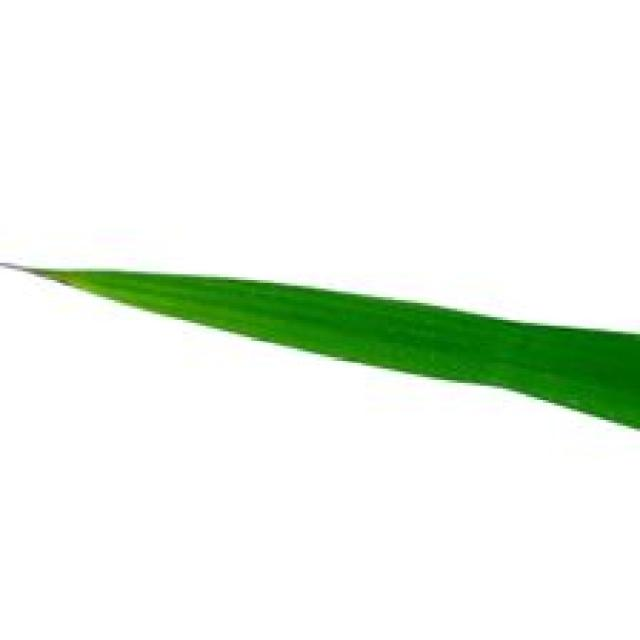Rice___Healthy_Rice_Plant: (4, 263, 637, 431)
